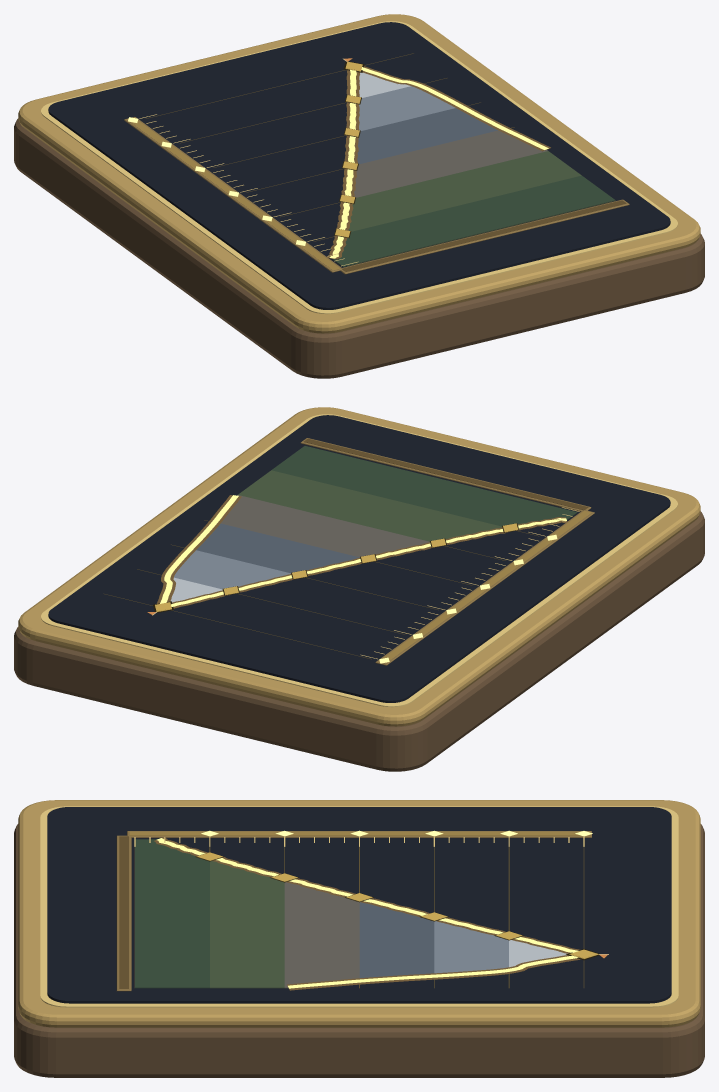
Rendered from altitude_6000.glb.
3 renders of one model, top to bottom at view 1: azimuth 30°, elevation 25°; view 2: azimuth 150°, elevation 25°; view 3: azimuth 270°, elevation 25°, orthographic. The views are drawn at different scales.
Parts seen in each view (by area): view 1: AL_Field, AL_Plate, AL_Brass, AL_Band0, AL_Band1, AL_Band2, AL_Pin, AL_Band3, AL_Band4, AL_ProfileLine, AL_ProfileCore, AL_AxisYIn (+5 smaller); view 2: AL_Field, AL_Plate, AL_Brass, AL_Band0, AL_Band1, AL_Band2, AL_Pin, AL_Band3, AL_Band4, AL_ProfileLine, AL_ProfileCore, AL_AxisYIn (+5 smaller); view 3: AL_Field, AL_Plate, AL_Brass, AL_Band0, AL_Band1, AL_Band2, AL_Pin, AL_Band3, AL_Band4, AL_ProfileLine, AL_ProfileCore, AL_AxisYIn (+5 smaller).
Boxes of the visible parts, <box> form: AL_Field: <box>48,22,670,309</box>; AL_Plate: <box>14,118,704,378</box>; AL_Brass: <box>18,14,700,333</box>; AL_Band0: <box>332,175,615,266</box>; AL_Band1: <box>348,151,581,231</box>; AL_Band2: <box>354,130,547,197</box>; AL_Pin: <box>41,21,677,314</box>; AL_Band3: <box>357,108,497,164</box>; AL_Band4: <box>358,86,455,130</box>; AL_ProfileLine: <box>327,66,550,259</box>; AL_ProfileCore: <box>329,67,548,258</box>; AL_AxisYIn: <box>127,117,339,270</box>; AL_Field: <box>48,415,670,702</box>; AL_Plate: <box>14,511,704,771</box>; AL_Brass: <box>18,407,700,726</box>; AL_Band0: <box>271,446,577,526</box>; AL_Band1: <box>238,470,501,541</box>; AL_Band2: <box>221,495,429,557</box>; AL_Pin: <box>41,414,677,707</box>; AL_Band3: <box>196,523,359,573</box>; AL_Band4: <box>174,550,290,589</box>; AL_ProfileLine: <box>156,495,567,608</box>; AL_ProfileCore: <box>160,495,566,606</box>; AL_AxisYIn: <box>379,510,591,663</box>; AL_Field: <box>47,807,671,1003</box>; AL_Plate: <box>14,824,704,1077</box>; AL_Brass: <box>18,800,700,1027</box>; AL_Band0: <box>135,839,209,988</box>; AL_Band1: <box>210,861,284,988</box>; AL_Band2: <box>284,882,359,988</box>; AL_Pin: <box>40,806,678,1007</box>; AL_Band3: <box>359,902,434,977</box>; AL_Band4: <box>434,921,508,973</box>; AL_ProfileLine: <box>154,837,580,990</box>; AL_ProfileCore: <box>156,838,578,988</box>; AL_AxisYIn: <box>129,831,589,835</box>.
Size of the model in its own units: 0.03 by 0.00425 by 0.0394.
